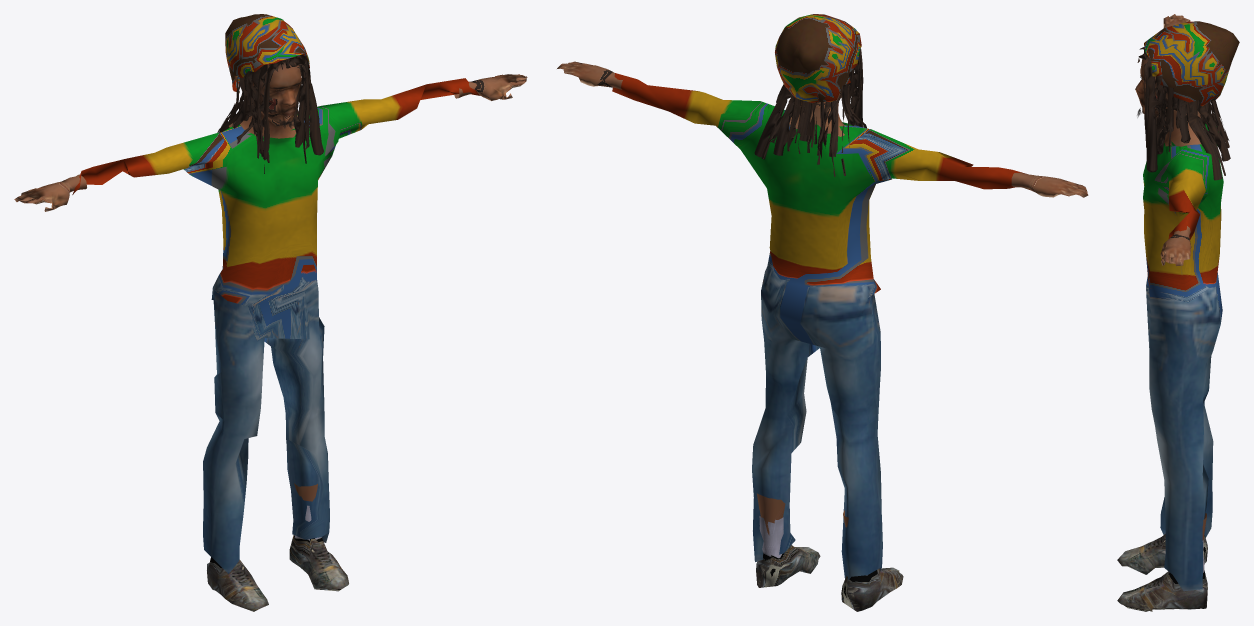
Rendered from rastaman_singer.glb.
3 renders of one model, left to right at view 1: azimuth 30°, elevation 25°; view 2: azimuth 150°, elevation 25°; view 3: azimuth 270°, elevation 25°, orthographic. The views are drawn at different scales.
Visible parts, largest first — view 1: body; view 2: body; view 3: body.
Part boxes in pixels (x1,y1,x2,y2): body: [14, 14, 527, 611]; body: [557, 14, 1088, 611]; body: [1117, 14, 1239, 611].
Size of the model in its own units: 1.75 by 1.84 by 0.362.
Materials: 10 (9 with a texture image).
